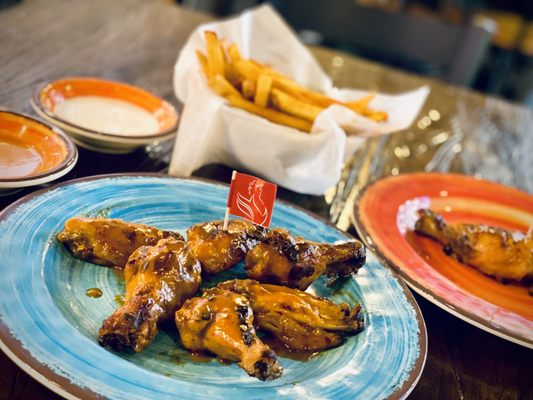sushi: (353, 172, 533, 345), (36, 76, 179, 168)
